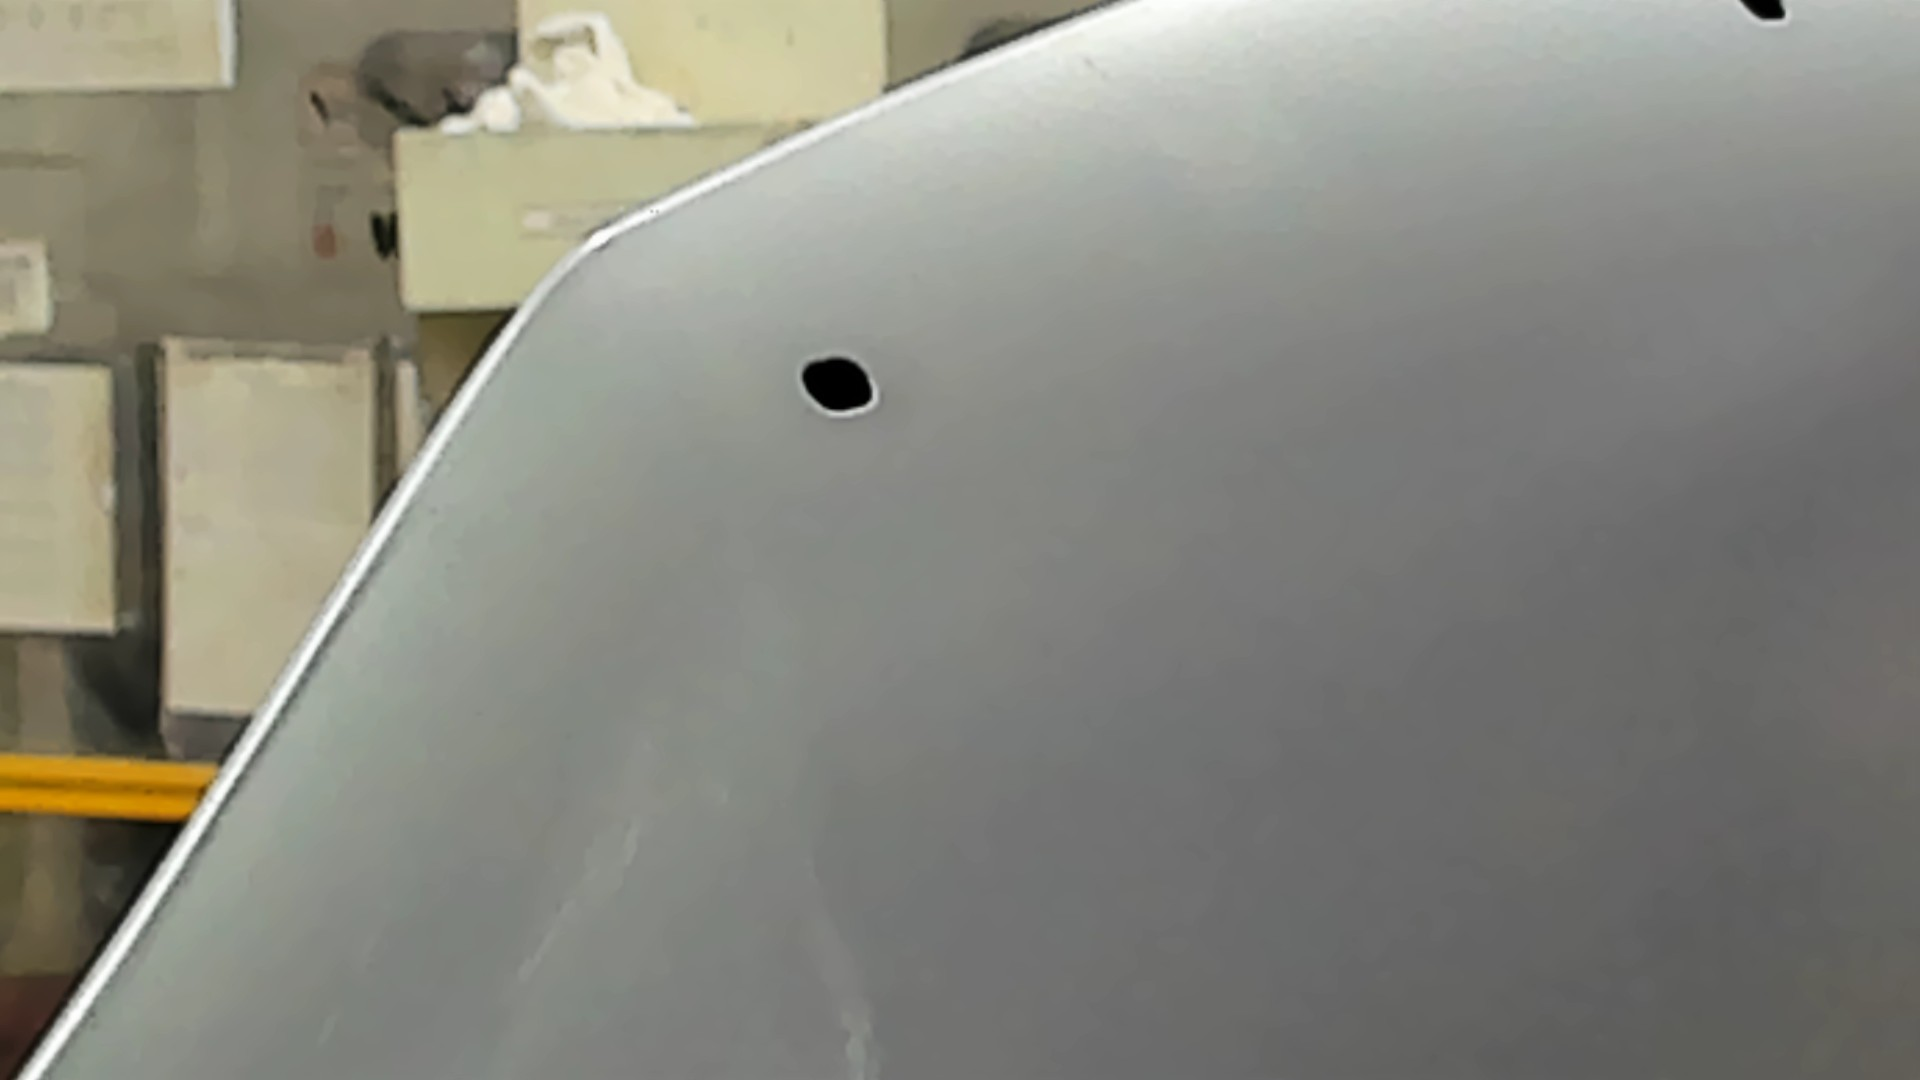amorfo: (795, 347, 887, 419), (1725, 1, 1807, 22)
